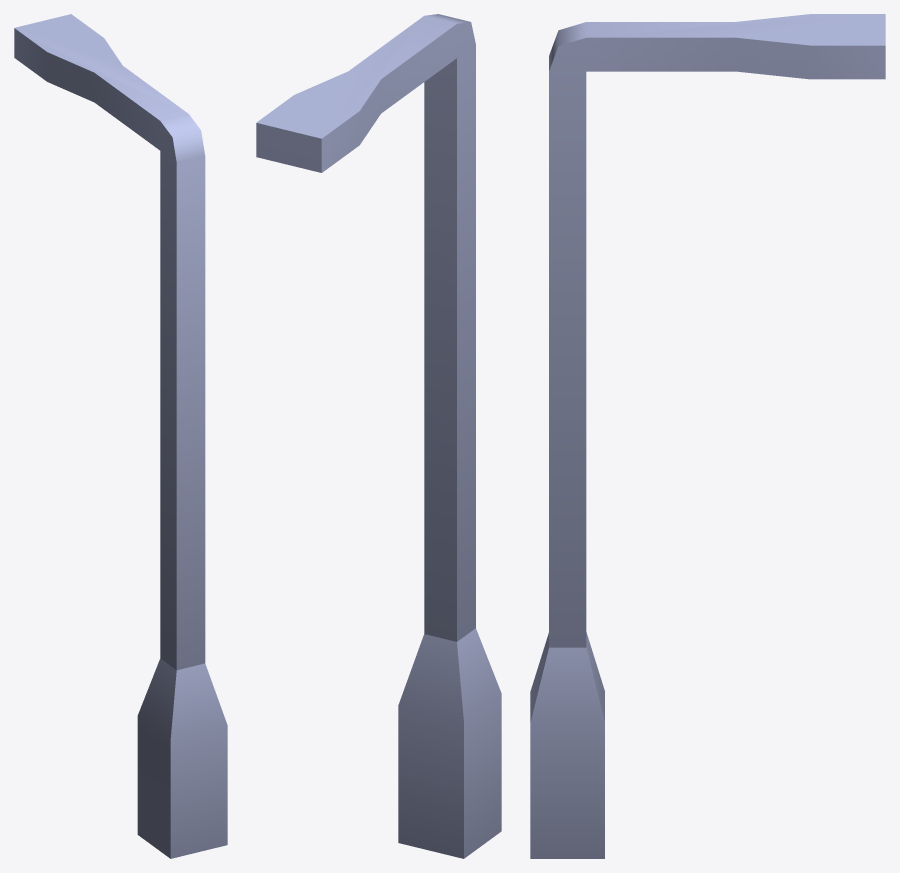
Rendered from light-square.glb.
3 renders of one model, left to right at view 1: azimuth 30°, elevation 25°; view 2: azimuth 150°, elevation 25°; view 3: azimuth 270°, elevation 25°, orthographic. The views are drawn at different scales.
Visible parts, largest first — view 1: light-square; view 2: light-square; view 3: light-square.
Part boxes in pixels (box(x1,y1,x2,y2)): light-square: box(14, 14, 227, 858); light-square: box(256, 14, 501, 858); light-square: box(530, 14, 885, 858).
Size of the model in its own units: 0.05 by 0.6 by 0.2375.
2 materials, 1 textured.
